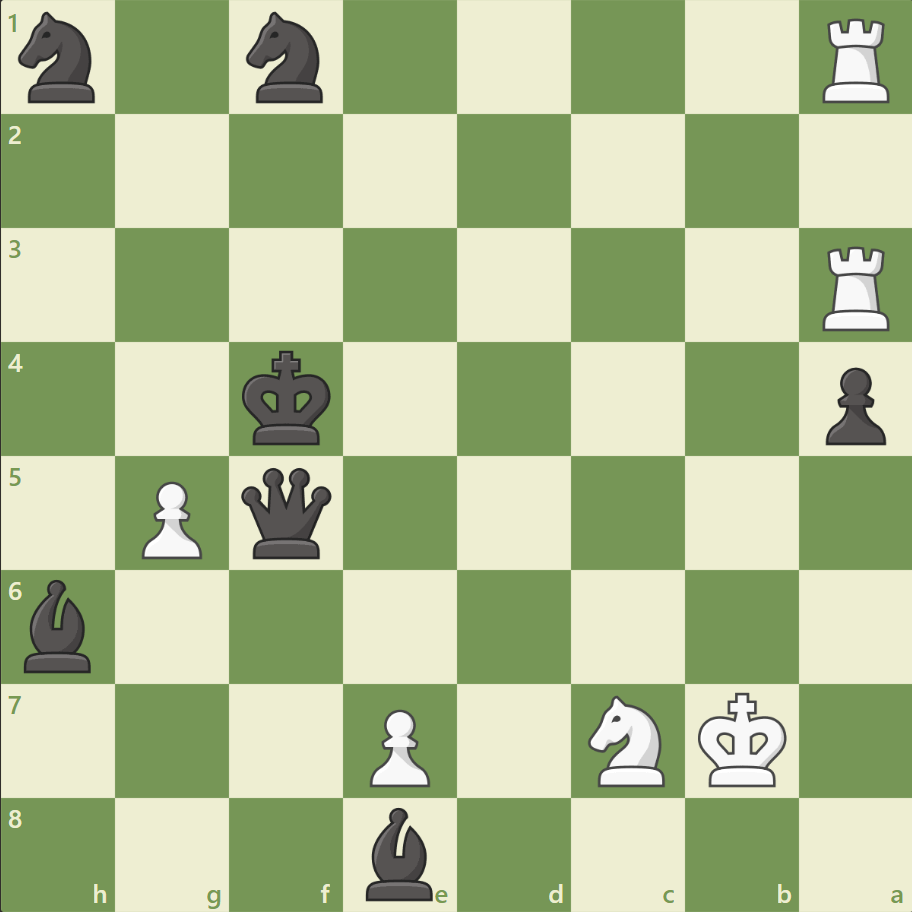K: (692, 685, 792, 793)
N: (579, 688, 676, 791)
P: (133, 473, 208, 564), (361, 700, 435, 791)
R: (814, 239, 897, 336), (814, 12, 897, 109)
b: (358, 801, 442, 904), (17, 574, 101, 676)
k: (238, 344, 338, 452)
n: (238, 7, 335, 110), (11, 7, 108, 110)
p: (815, 359, 889, 450)
q: (237, 463, 336, 562)
